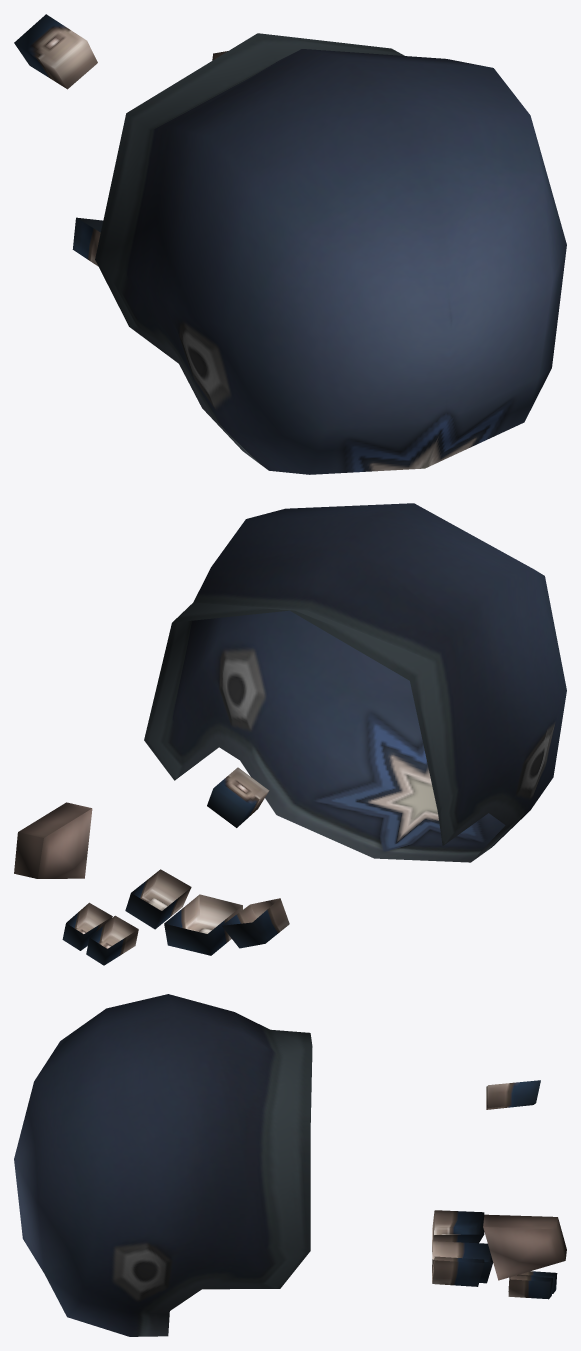
File: Avatar_Swat_H_01_3_5ea93a5d__Avatar_Swat_B_01_de8aa722_c1f257.obj
3 renders of one model, top to bottom at view 1: azimuth 30°, elevation 25°; view 2: azimuth 150°, elevation 25°; view 3: azimuth 270°, elevation 25°, orthographic. The views are drawn at different scales.
Bounding box in the file's own units: 0.8937 × 0.8948 × 1.51.
Materials: 1 (1 with a texture image).
